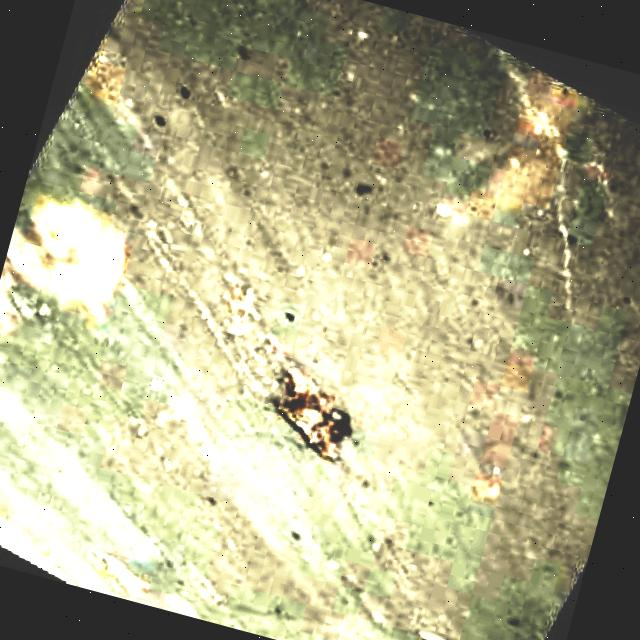pothole: (253, 354, 368, 467)
